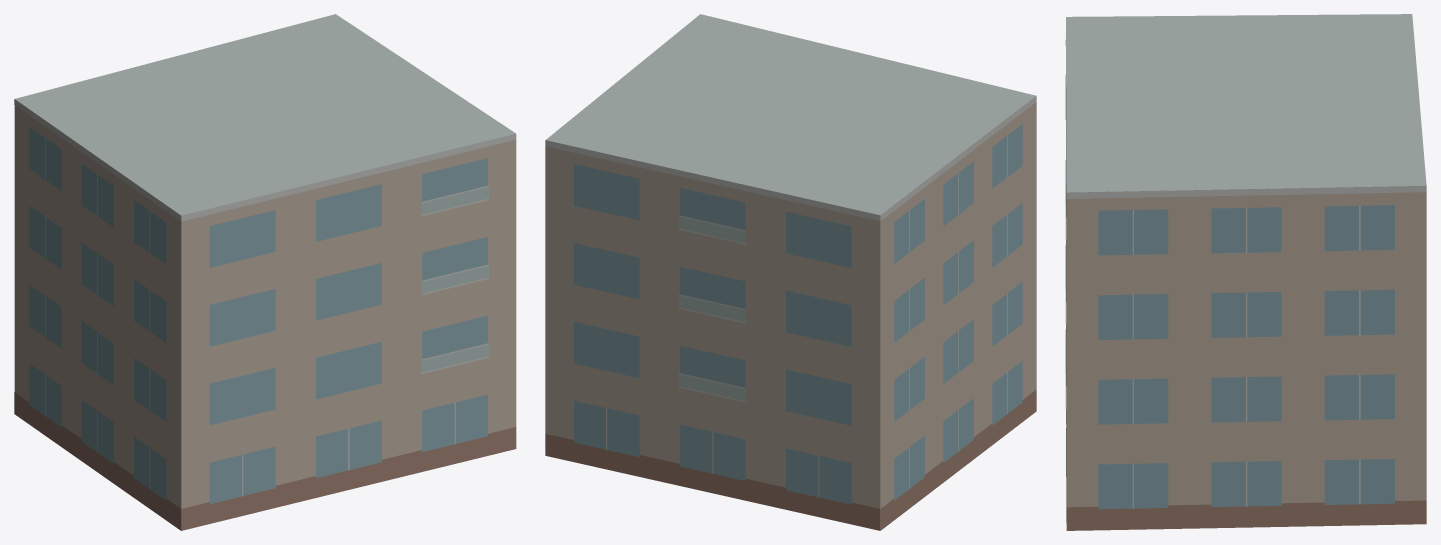
File: survey-upis-32825745.glb
3 views of the same model, side by side, from view 1: azimuth 30°, elevation 25°; view 2: azimuth 150°, elevation 25°; view 3: azimuth 270°, elevation 25° (orthographic). The views are drawn at different scales.
Visible parts, largest first — view 1: survey-upis-32825745.tmp; view 2: survey-upis-32825745.tmp; view 3: survey-upis-32825745.tmp.
Boxes of the visible parts, x1=… form: survey-upis-32825745.tmp: x1=14, y1=14, x2=516, y2=530; survey-upis-32825745.tmp: x1=545, y1=14, x2=1036, y2=530; survey-upis-32825745.tmp: x1=1065, y1=14, x2=1426, y2=530.
Size of the model in its own units: 14.49 by 12.8 by 12.4.
